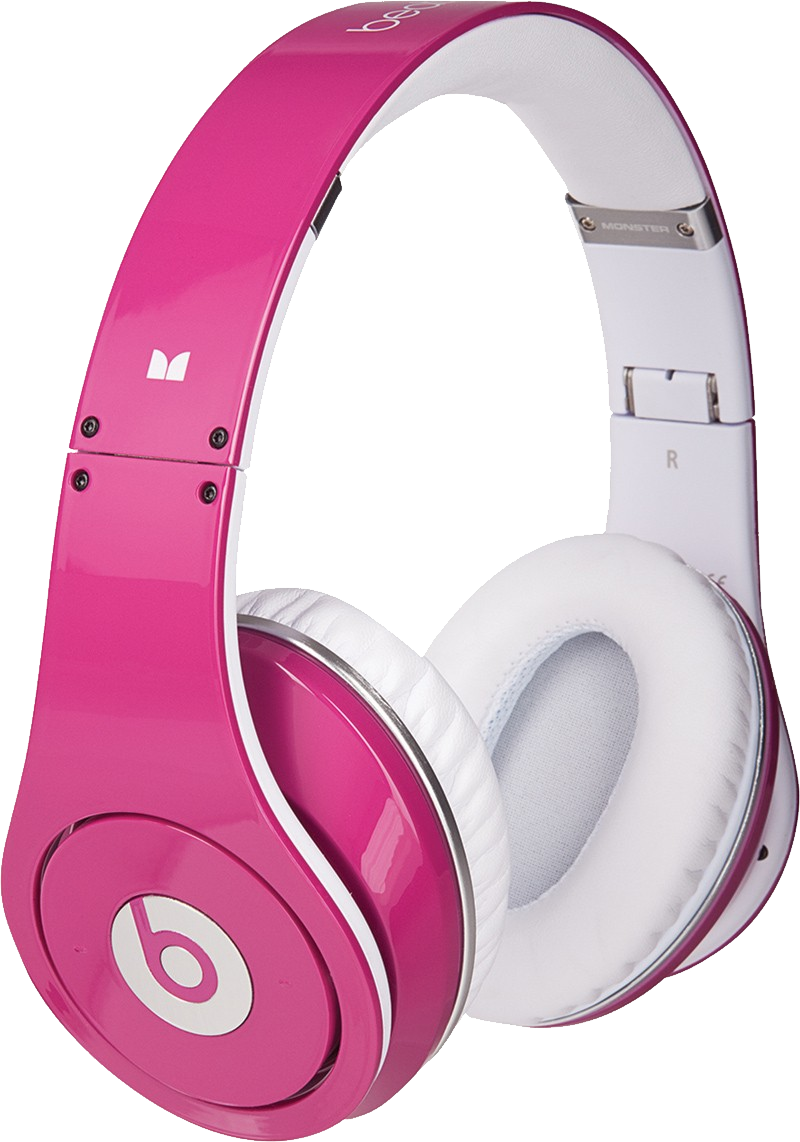headphone: (2, 4, 786, 1065)
